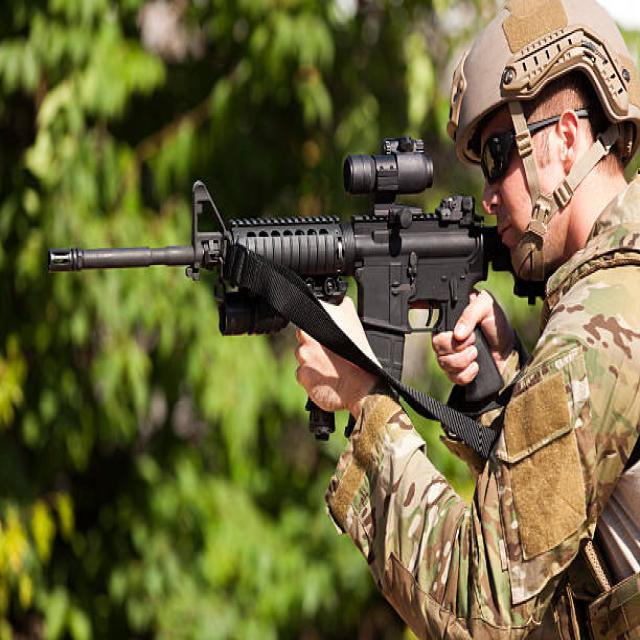soldier: (47, 1, 640, 640)
